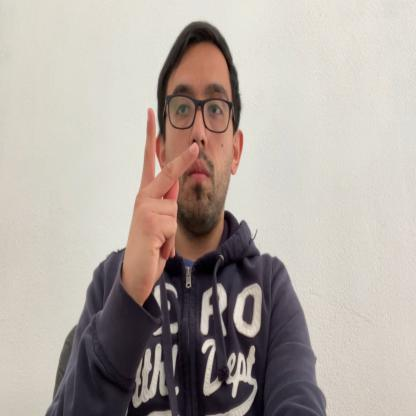P: (127, 105, 198, 314)
